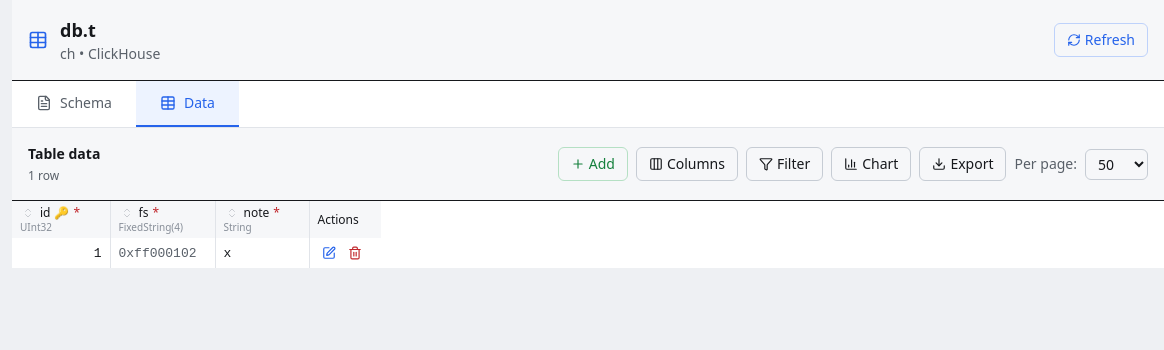
Test: TableDataViewer（ClickHouse） › 已经排进待提交的行，右键菜单不给编辑
Click the button named "Delete". click: [354, 253]
box: [344,242,366,264]
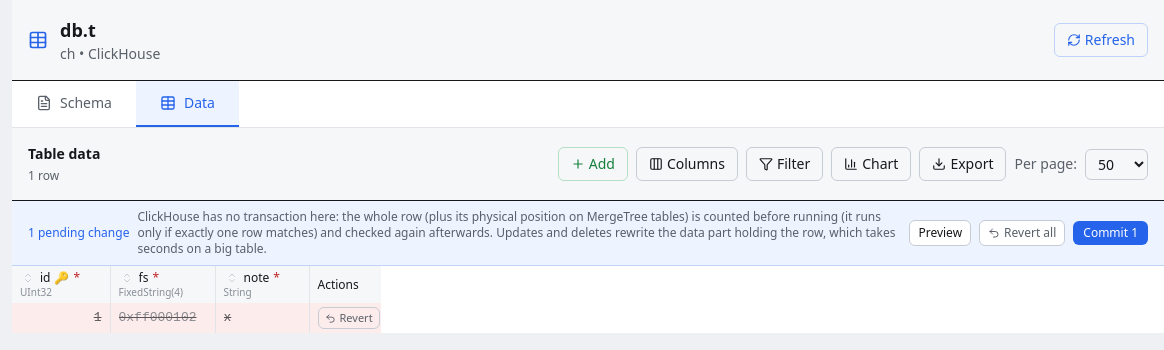
Right-click the cell "x" at [262, 318], box [215,303,309,333]
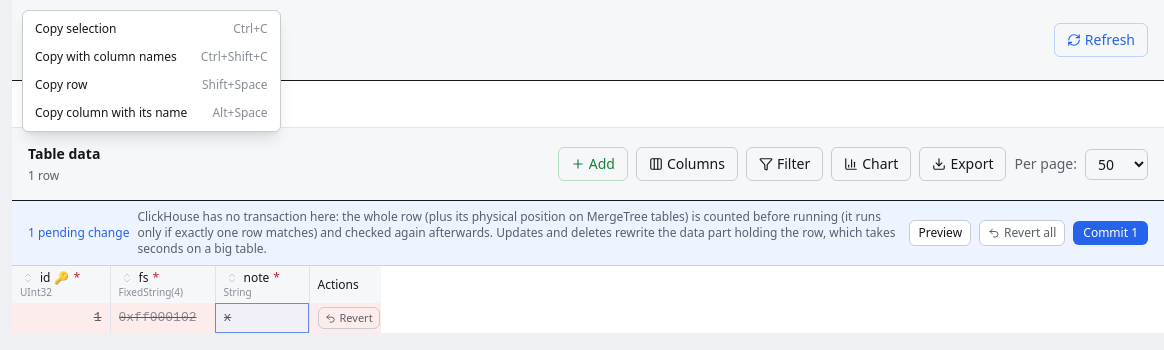
Result: the text "Copy row" is shown at [35,77,87,93]
